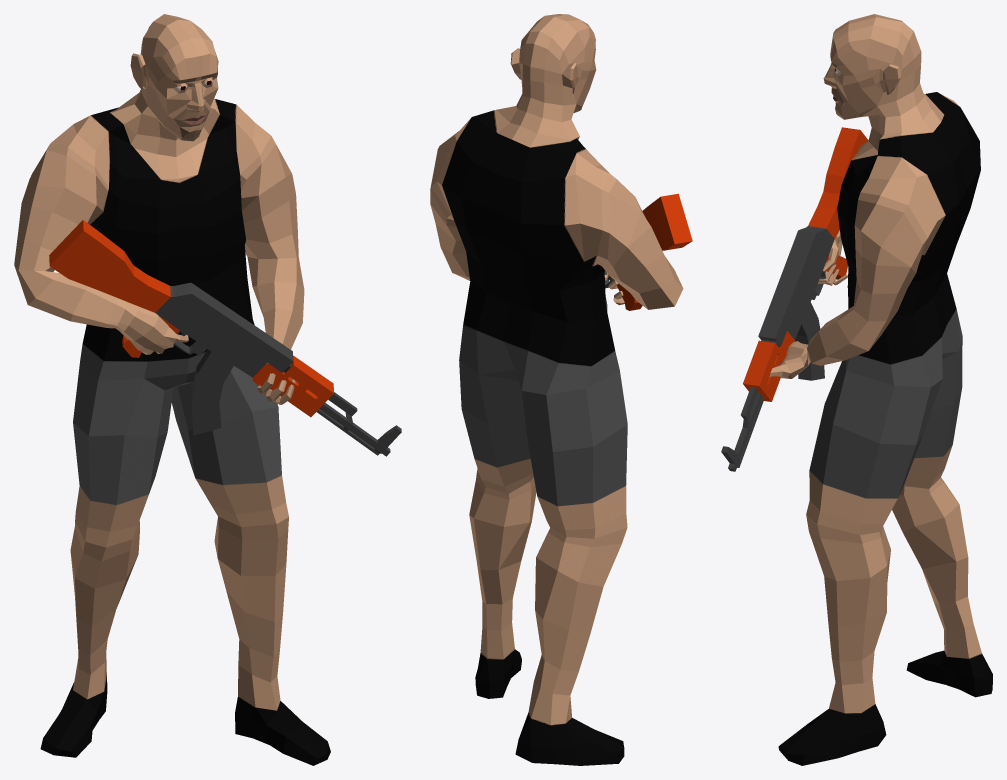
File: PlayerIdle(46).obj
The picture shows the model from 3 angles, left to right: view 1: azimuth 30°, elevation 25°; view 2: azimuth 150°, elevation 25°; view 3: azimuth 270°, elevation 25°; orthographic projection. The views are drawn at different scales.
Visible parts, largest first — view 1: Plane002, Object001; view 2: Plane002, Object001; view 3: Plane002, Object001.
Boxes of the visible parts, x1,y1,x2,y2 form: Plane002: (14, 14, 330, 765); Object001: (49, 220, 401, 456); Plane002: (430, 14, 683, 765); Object001: (604, 193, 692, 311); Plane002: (769, 14, 992, 765); Object001: (721, 127, 868, 471).
Bounding box in the file's own units: 743 × 1804 × 639.
